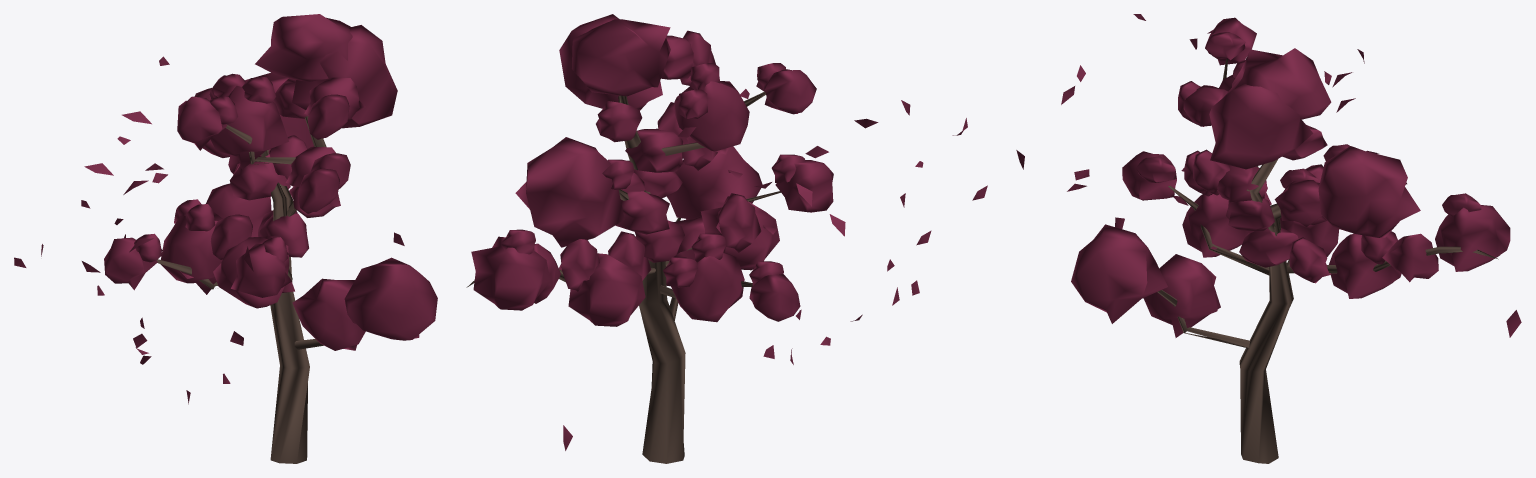
The model's file is sakura.fbx.
3 renders of one model, left to right at view 1: azimuth 30°, elevation 25°; view 2: azimuth 150°, elevation 25°; view 3: azimuth 270°, elevation 25°, orthographic. The views are drawn at different scales.
Visible parts, largest first — view 1: sakura; view 2: sakura; view 3: sakura.
Part boxes in pixels (x1=…): sakura: x1=14, y1=14, x2=437, y2=463; sakura: x1=466, y1=14, x2=987, y2=463; sakura: x1=1016, y1=14, x2=1521, y2=463.
Size of the model in its own units: 12065 by 14973 by 16553.
